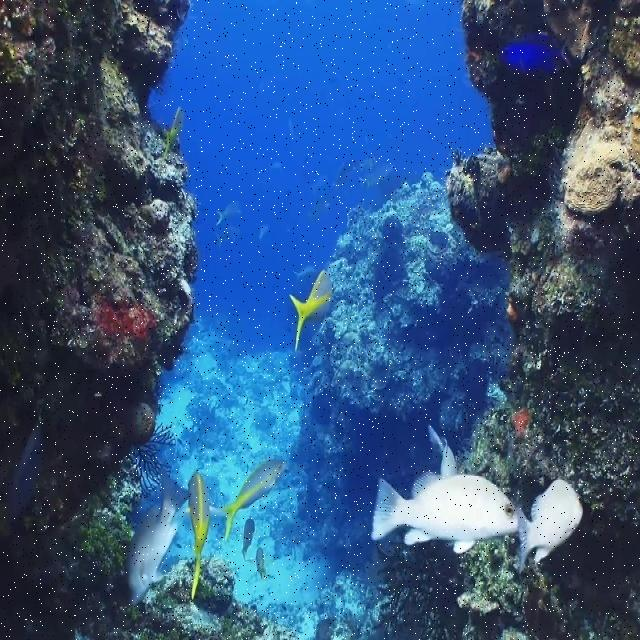fish: (372, 472, 520, 553), (126, 470, 193, 606), (517, 481, 583, 565), (219, 460, 284, 543), (183, 470, 219, 599), (289, 269, 332, 351), (243, 519, 256, 556), (256, 550, 265, 579)
